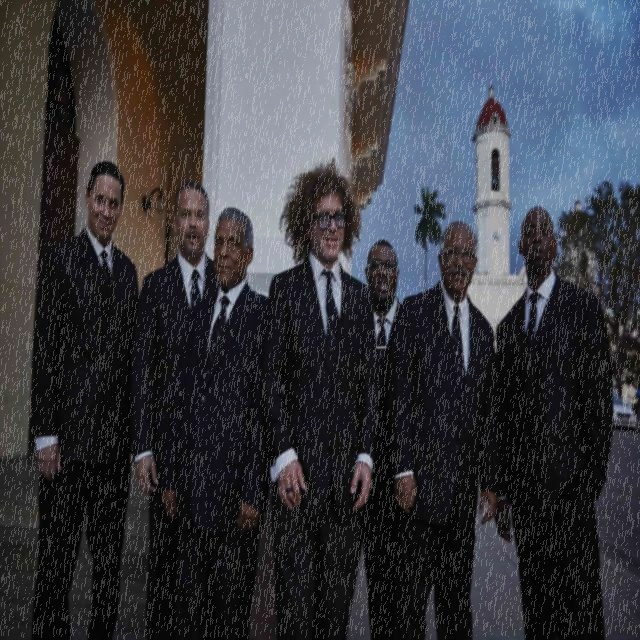pessoa: (258, 155, 386, 640), (24, 155, 143, 639), (494, 200, 620, 640), (157, 196, 280, 640), (386, 215, 500, 640), (126, 176, 222, 639), (360, 236, 409, 639)
